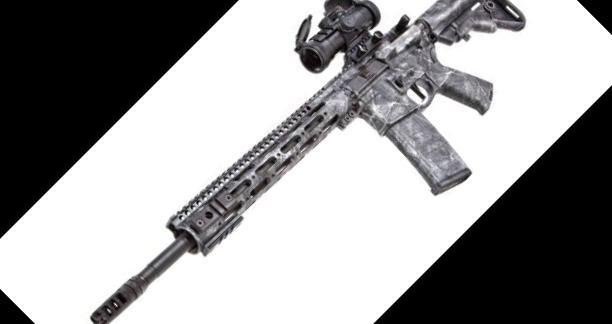larga: (88, 0, 527, 324)
